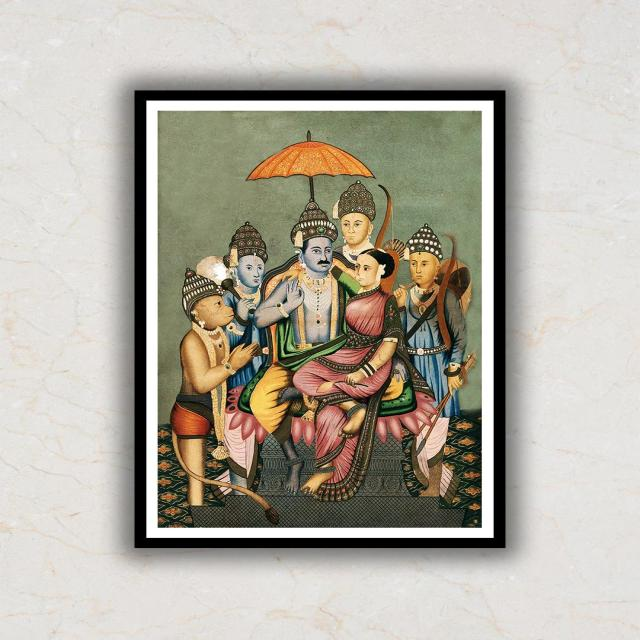painting: (135, 89, 507, 549)
